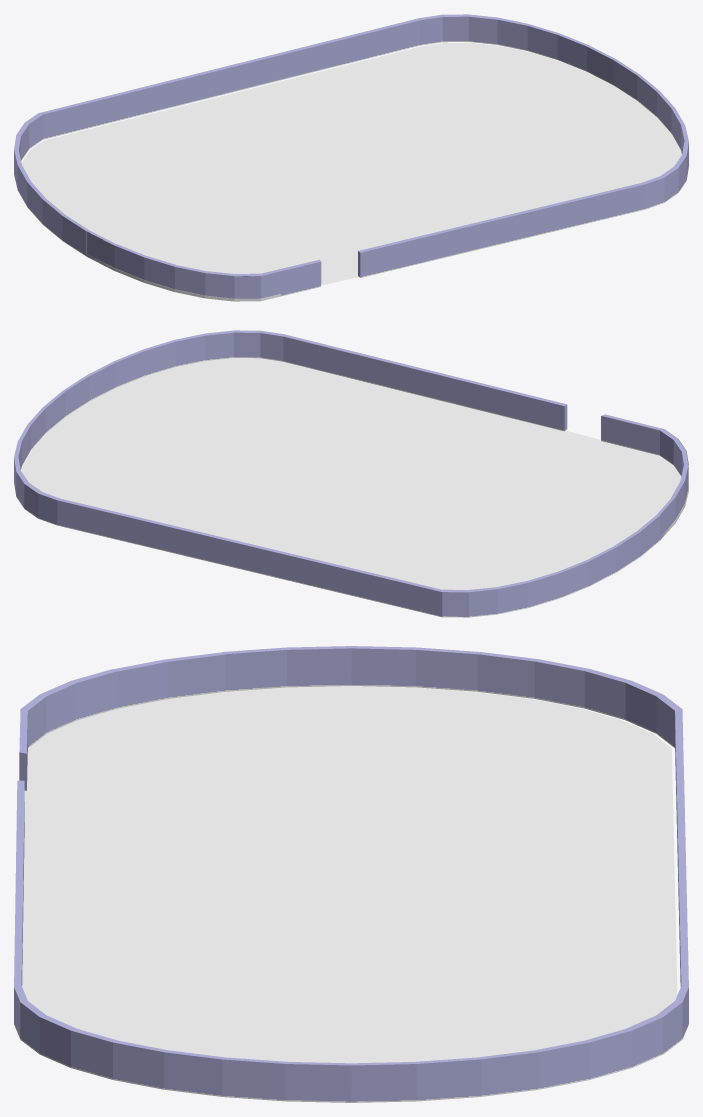
Rendered from ice-rink.obj.
3 views of the same model, one above another, from view 1: azimuth 30°, elevation 25°; view 2: azimuth 150°, elevation 25°; view 3: azimuth 270°, elevation 25° (orthographic). The views are drawn at different scales.
Parts seen in each view (by area): view 1: polySurface1; view 2: polySurface1; view 3: polySurface1.
Boxes of the visible parts, x1=… form: polySurface1: x1=14, y1=14, x2=688, y2=301; polySurface1: x1=14, y1=330, x2=688, y2=617; polySurface1: x1=14, y1=646, x2=688, y2=1102.
Bounding box in the file's own units: 42.77 × 1.78 × 29.09.
Materials: 1 (1 with a texture image).
